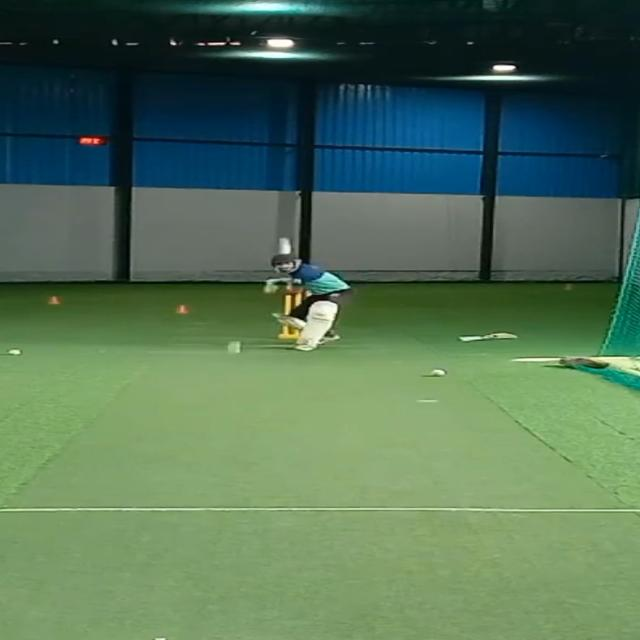ball: (224, 343, 246, 358), (425, 366, 451, 378), (7, 346, 24, 358)
stump: (281, 292, 307, 341)
